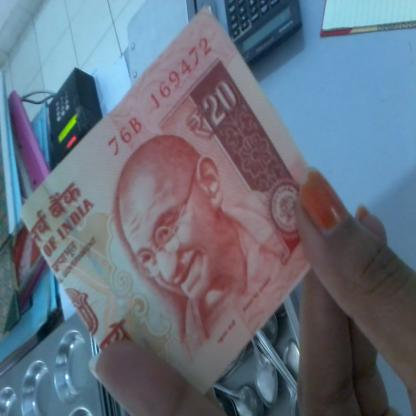Old20Front: (45, 23, 309, 370)
